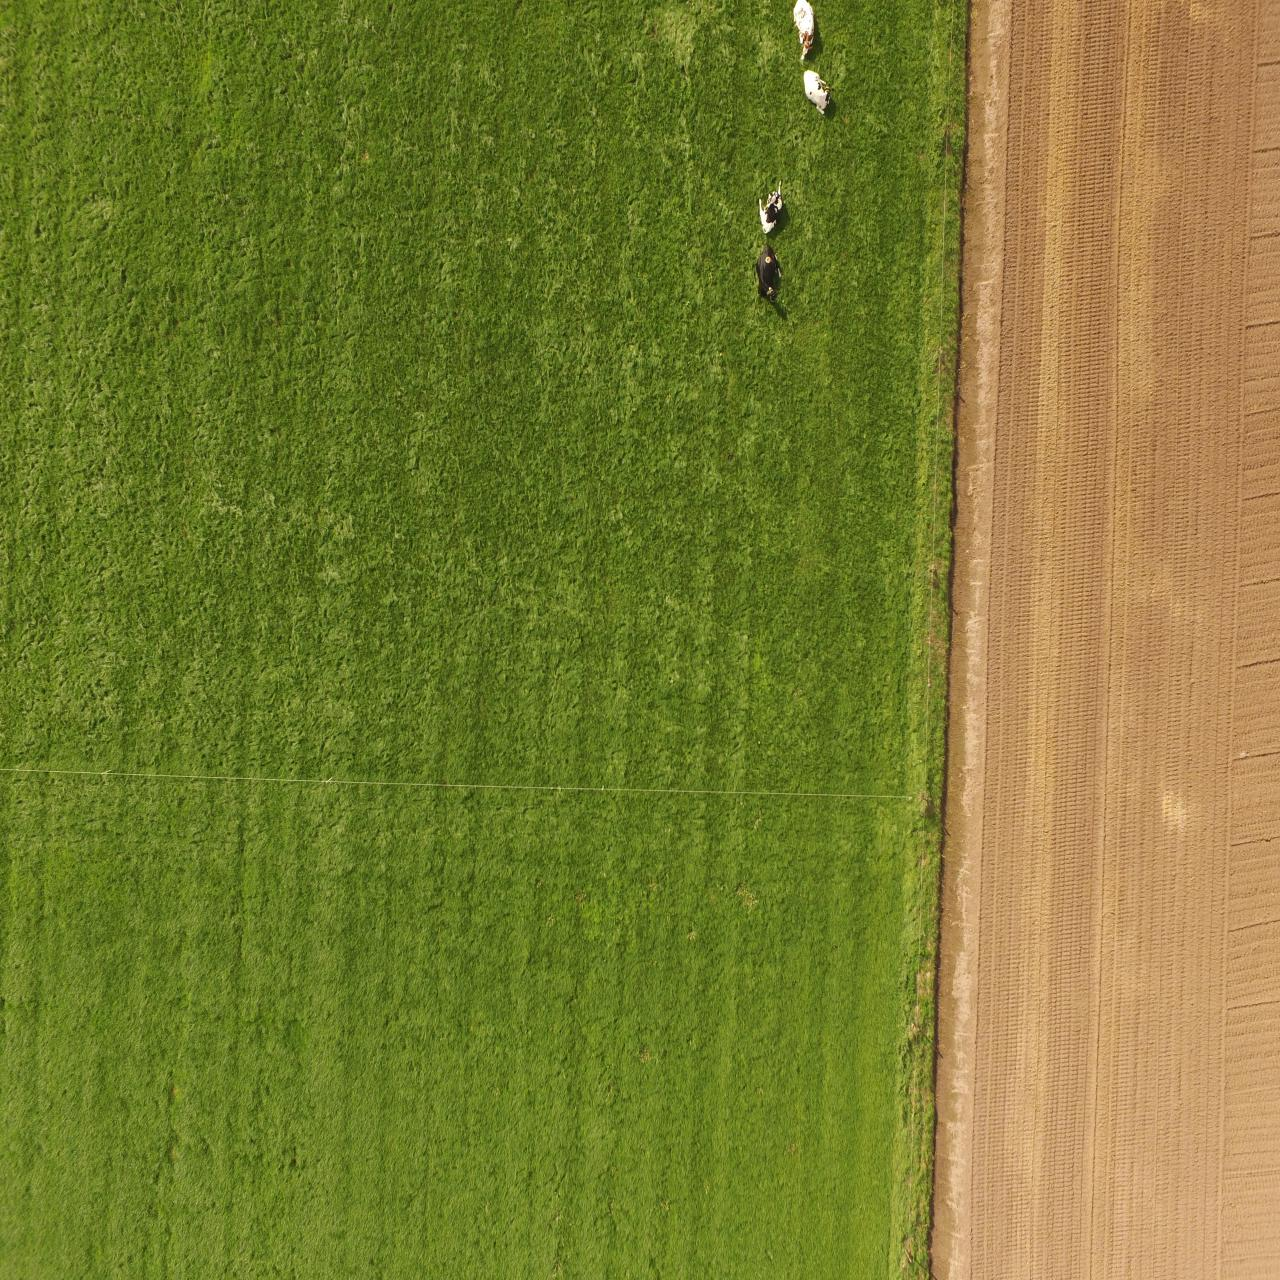cow: (755, 175, 785, 238), (755, 240, 782, 302), (802, 67, 835, 116), (791, 0, 816, 63)
